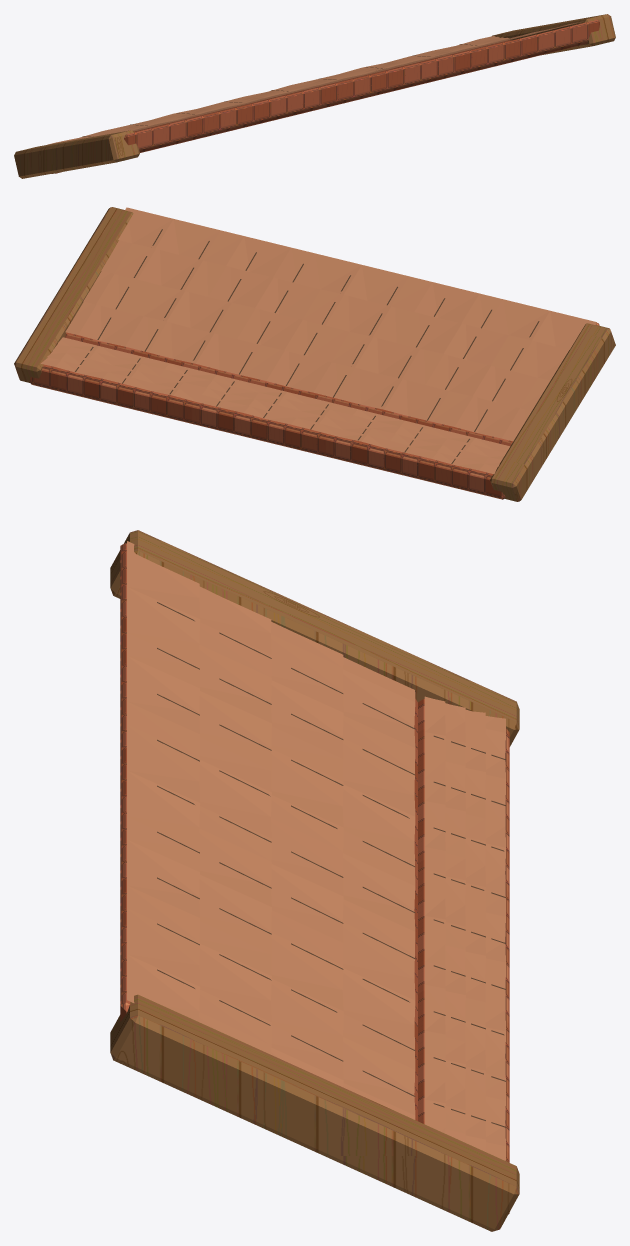
The model's file is SM_HH_Q3_Roof_Porch.fbx.
3 renders of one model, top to bottom at view 1: azimuth 30°, elevation 25°; view 2: azimuth 150°, elevation 25°; view 3: azimuth 270°, elevation 25°, orthographic. The views are drawn at different scales.
Visible parts, largest first — view 1: HH_Q3_Roof_Porch; view 2: HH_Q3_Roof_Porch; view 3: HH_Q3_Roof_Porch.
Boxes of the visible parts, x1,y1,x2,y2 form: HH_Q3_Roof_Porch: (14,14,615,178); HH_Q3_Roof_Porch: (14,207,615,501); HH_Q3_Roof_Porch: (110,530,519,1231).
Size of the model in its own units: 1.47 by 4.17 by 0.8679.
